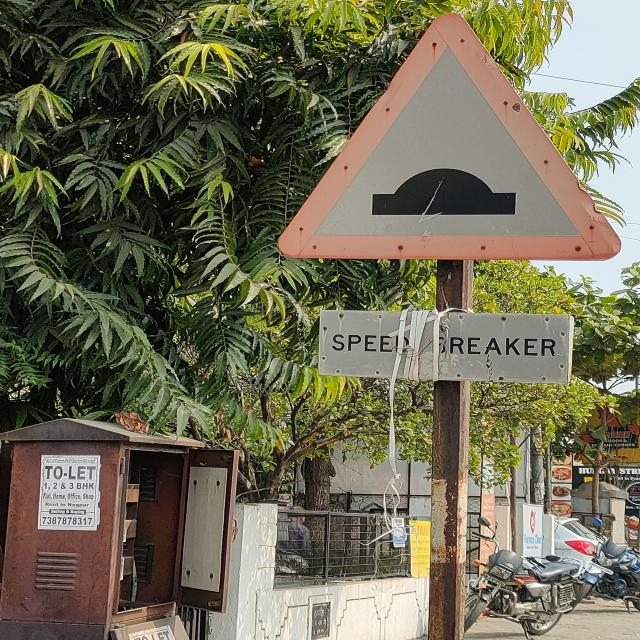HUMP_OR_ROUGH_ROAD: (278, 14, 618, 262)
